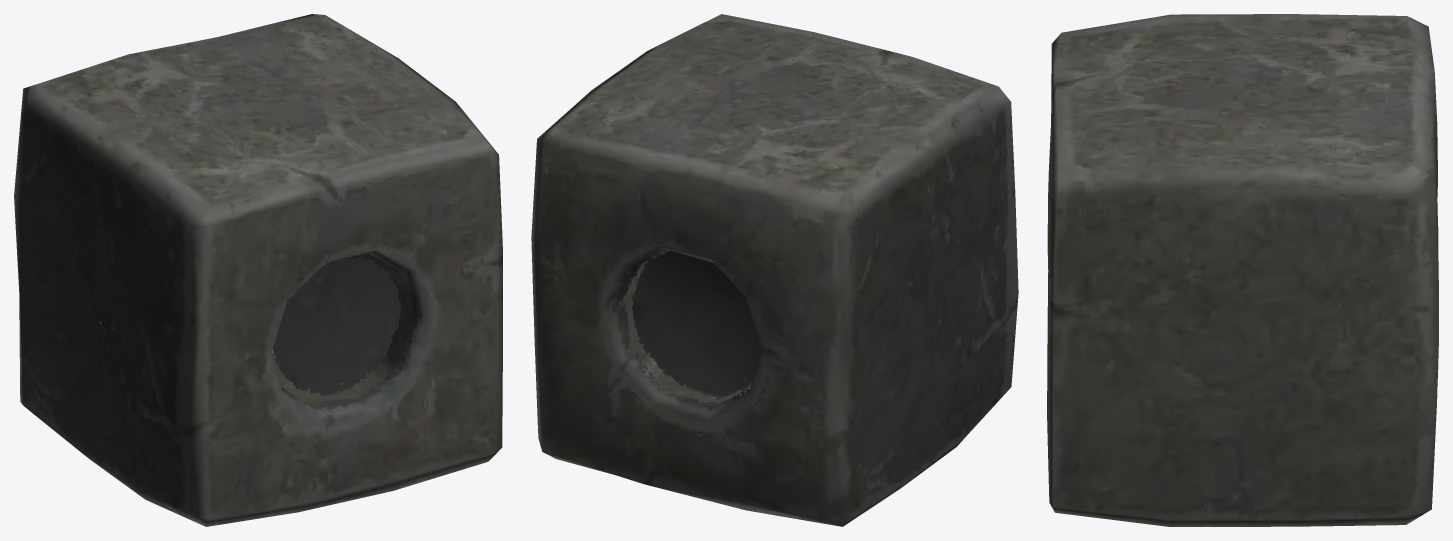
The picture shows the model from 3 angles, left to right: view 1: azimuth 30°, elevation 25°; view 2: azimuth 150°, elevation 25°; view 3: azimuth 270°, elevation 25°; orthographic projection. The views are drawn at different scales.
Parts seen in each view (by area): view 1: SM_Block_FuelPellet_LOD0; view 2: SM_Block_FuelPellet_LOD0; view 3: SM_Block_FuelPellet_LOD0.
Part boxes in pixels (x1,y1,x2,y2): SM_Block_FuelPellet_LOD0: (14, 14, 502, 526); SM_Block_FuelPellet_LOD0: (531, 14, 1018, 526); SM_Block_FuelPellet_LOD0: (1047, 14, 1438, 526).
Bounding box in the file's own units: 0.2565 × 0.2582 × 0.2511.
1 material, 1 textured.
